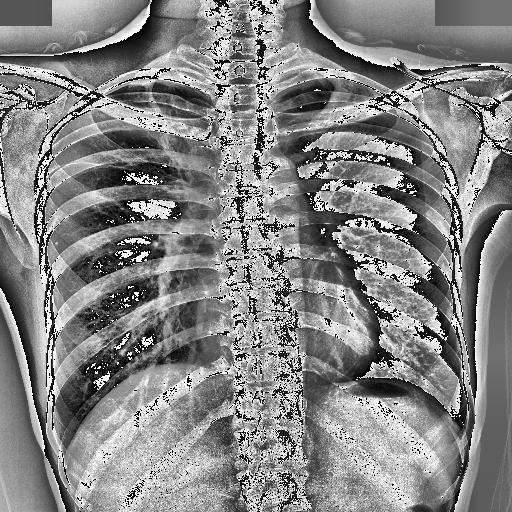11- Pleural thickening: (268, 71, 355, 97), (117, 74, 200, 96), (129, 74, 212, 92)
13- Pulmonary fibrosis: (131, 84, 198, 170), (143, 84, 184, 142), (44, 158, 139, 180), (44, 156, 138, 177), (46, 160, 136, 172)
